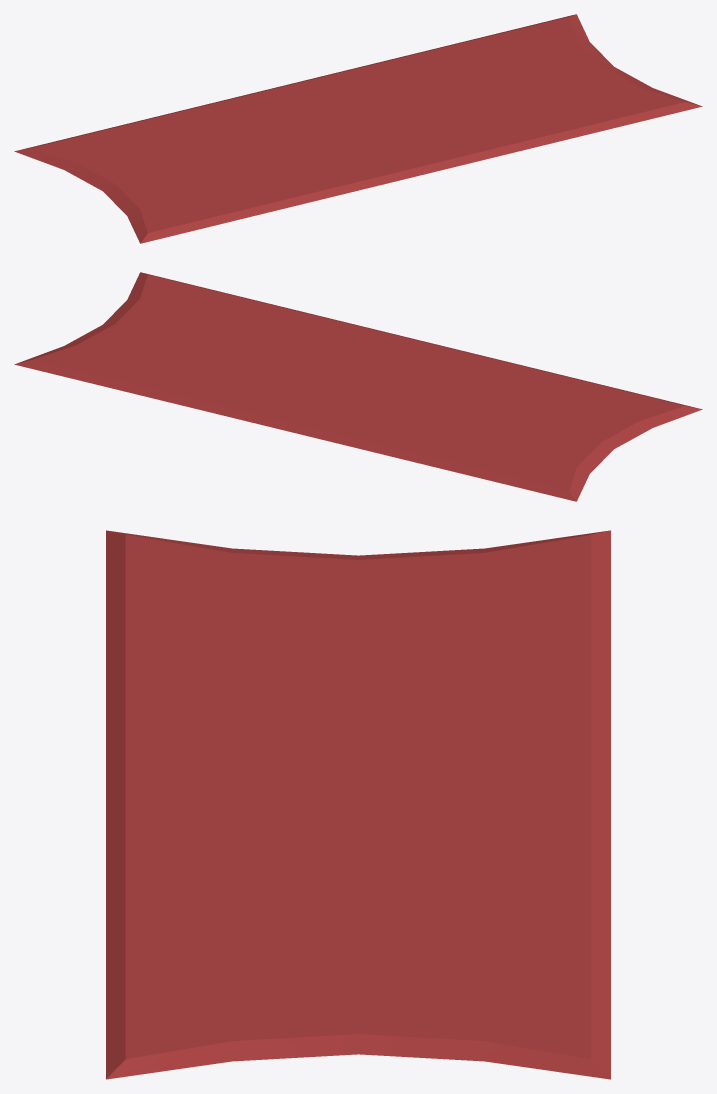
The model's file is Most.fbx.
3 views of the same model, one above another, from view 1: azimuth 30°, elevation 25°; view 2: azimuth 150°, elevation 25°; view 3: azimuth 270°, elevation 25° (orthographic). The views are drawn at different scales.
Parts seen in each view (by area): view 1: polySurface214, most_dop, polySurface215; view 2: polySurface214, most_dop, polySurface215; view 3: polySurface214, most_dop, polySurface215.
Boxes of the visible parts, <box> form: polySurface214: <box>189,28,641,201</box>; most_dop: <box>14,108,313,243</box>; polySurface215: <box>516,14,702,121</box>; polySurface214: <box>75,286,527,459</box>; most_dop: <box>403,366,702,501</box>; polySurface215: <box>14,272,200,379</box>; polySurface214: <box>106,692,610,1020</box>; most_dop: <box>106,530,610,699</box>; polySurface215: <box>106,1012,610,1079</box>.
Bounding box in the file's own units: 826 × 5.59 × 321.
